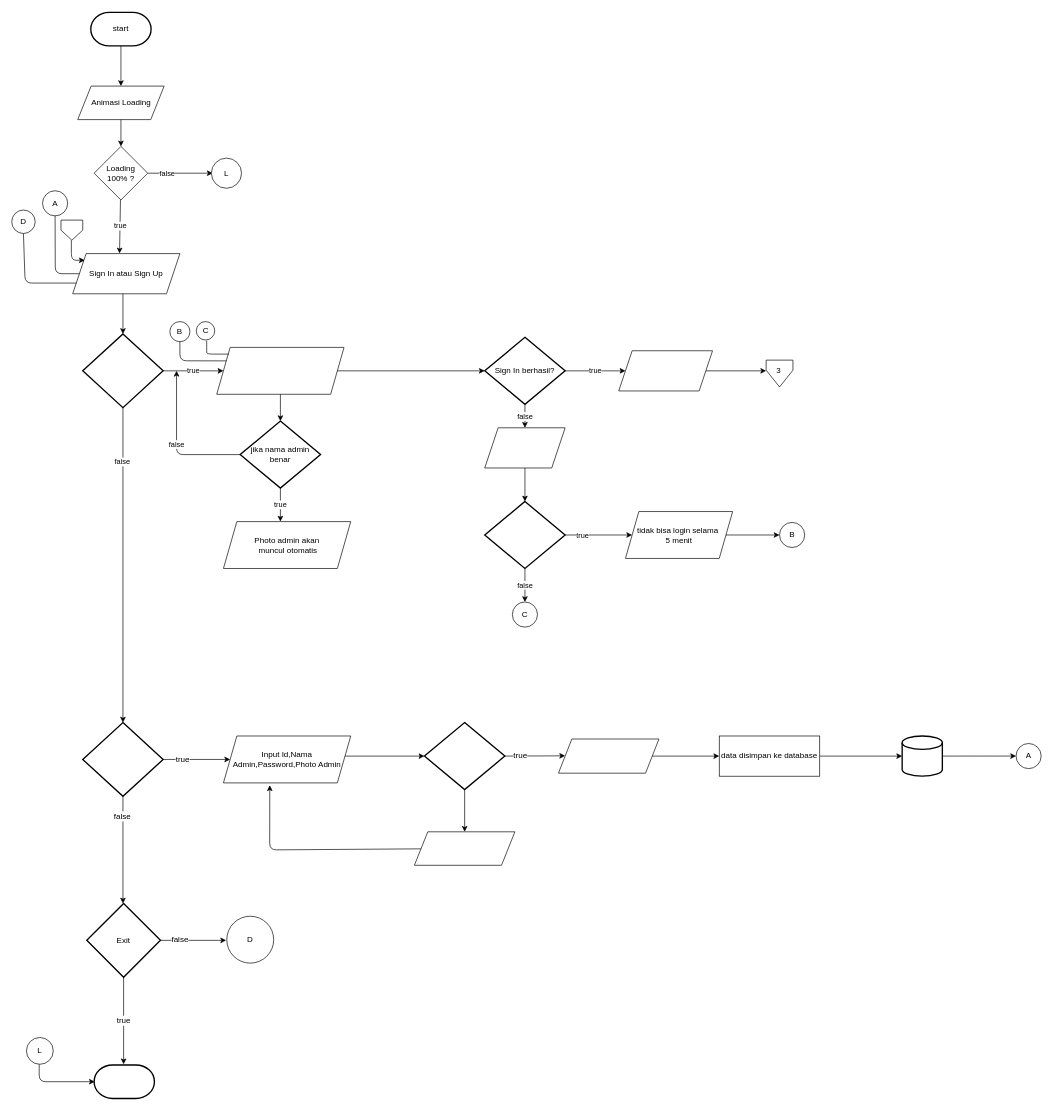
Image size: 1053x1110. Some labels were removed from this diagram. Each missing label, with the centre of its shape:
"6B" belongs at (x=71, y=229).
"cek = 1" belongs at (x=524, y=447).
"cek >= 3" belongs at (x=524, y=534).
"Empety Field" belongs at (x=464, y=848).
"End" belongs at (x=124, y=1081).
"Input Nama Admin,Password" belongs at (x=280, y=370).
"Login Succesfull" belongs at (x=665, y=370).
"New Admin added" belongs at (x=608, y=755).
"Sign In" belongs at (x=122, y=370).
"Sign Up" belongs at (x=122, y=759).
"Sign Up berhasil?" belongs at (x=464, y=756).
